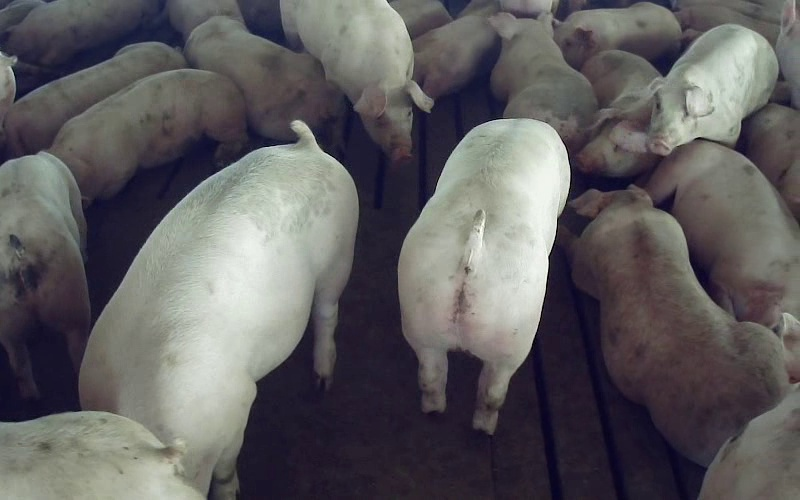pig: (559, 186, 788, 464), (398, 119, 569, 433), (643, 140, 799, 327), (48, 69, 246, 202), (281, 0, 432, 161), (184, 16, 345, 154), (0, 152, 89, 398), (4, 42, 186, 157), (648, 24, 778, 155), (490, 13, 597, 153), (575, 50, 660, 177), (5, 0, 158, 65), (554, 2, 680, 68)
